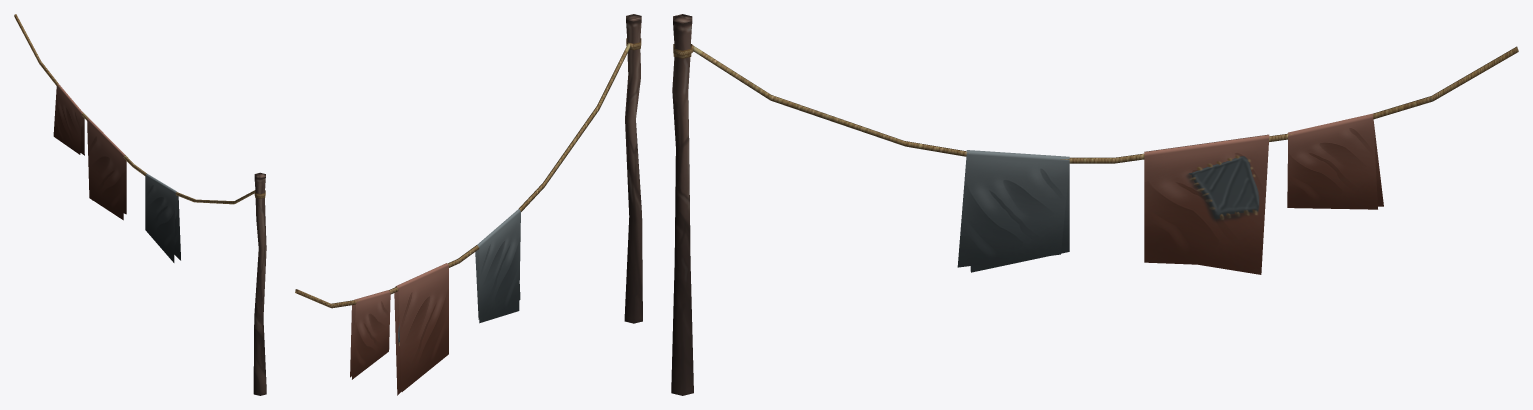
The model's file is varal1.fbx.
The picture shows the model from 3 angles, left to right: view 1: azimuth 30°, elevation 25°; view 2: azimuth 150°, elevation 25°; view 3: azimuth 270°, elevation 25°; orthographic projection. The views are drawn at different scales.
Visible parts, largest first — view 1: CA_OPE_Props_Fazenda, CA_OPE_Props_Fazenda_Varal_001_Roupa_B, CA_OPE_Props_Fazenda_Varal_001_Roupa_A, CA_OPE_Props_Fazenda_Varal_001_Roupa_C; view 2: CA_OPE_Props_Fazenda, CA_OPE_Props_Fazenda_Varal_001_Roupa_B, CA_OPE_Props_Fazenda_Varal_001_Roupa_A, CA_OPE_Props_Fazenda_Varal_001_Roupa_C; view 3: CA_OPE_Props_Fazenda_Varal_001_Roupa_B, CA_OPE_Props_Fazenda_Varal_001_Roupa_A, CA_OPE_Props_Fazenda, CA_OPE_Props_Fazenda_Varal_001_Roupa_C.
Part boxes in pixels (x1,y1,x2,y2): CA_OPE_Props_Fazenda: (14, 14, 266, 395); CA_OPE_Props_Fazenda_Varal_001_Roupa_B: (87, 118, 126, 220); CA_OPE_Props_Fazenda_Varal_001_Roupa_A: (145, 173, 180, 262); CA_OPE_Props_Fazenda_Varal_001_Roupa_C: (53, 83, 84, 155); CA_OPE_Props_Fazenda: (295, 14, 642, 323); CA_OPE_Props_Fazenda_Varal_001_Roupa_B: (394, 263, 448, 395); CA_OPE_Props_Fazenda_Varal_001_Roupa_A: (475, 209, 520, 323); CA_OPE_Props_Fazenda_Varal_001_Roupa_C: (350, 290, 390, 379); CA_OPE_Props_Fazenda_Varal_001_Roupa_B: (1144, 134, 1269, 274); CA_OPE_Props_Fazenda_Varal_001_Roupa_A: (957, 150, 1069, 272); CA_OPE_Props_Fazenda: (671, 14, 1518, 395); CA_OPE_Props_Fazenda_Varal_001_Roupa_C: (1287, 113, 1383, 209).
Size of the model in its own units: 0.6938 by 10.94 by 22.59.
